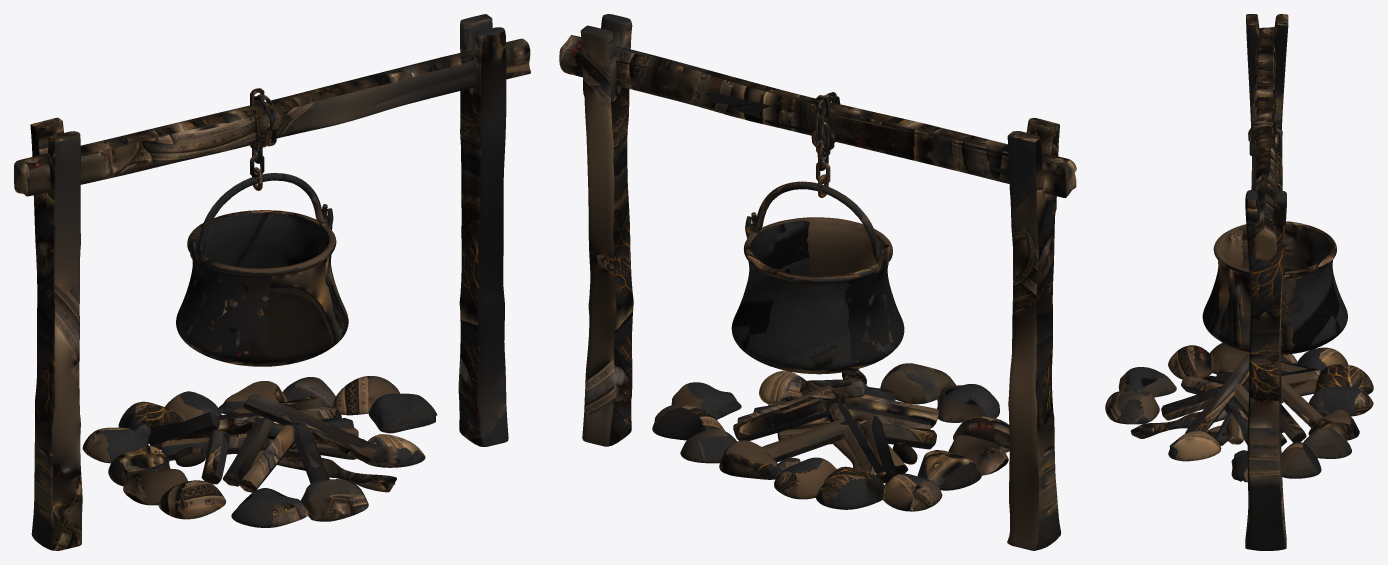
File: FireCamp.fbx
The picture shows the model from 3 angles, left to right: view 1: azimuth 30°, elevation 25°; view 2: azimuth 150°, elevation 25°; view 3: azimuth 270°, elevation 25°; orthographic projection. The views are drawn at different scales.
Visible parts, largest first — view 1: WoodCampThing, FirepitCamp, PotCamp; view 2: WoodCampThing, FirepitCamp, PotCamp; view 3: FirepitCamp, WoodCampThing, PotCamp.
Boxes of the visible parts, x1=… form: WoodCampThing: x1=14, y1=14, x2=530, y2=550; FirepitCamp: x1=82, y1=376, x2=437, y2=527; PotCamp: x1=176, y1=173, x2=348, y2=366; WoodCampThing: x1=559, y1=14, x2=1076, y2=550; FirepitCamp: x1=652, y1=363, x2=1009, y2=511; PotCamp: x1=731, y1=181, x2=904, y2=374; FirepitCamp: x1=1105, y1=342, x2=1373, y2=482; WoodCampThing: x1=1245, y1=14, x2=1288, y2=550; PotCamp: x1=1202, y1=187, x2=1347, y2=354.
Size of the model in its own units: 129 by 100 by 70.14.
